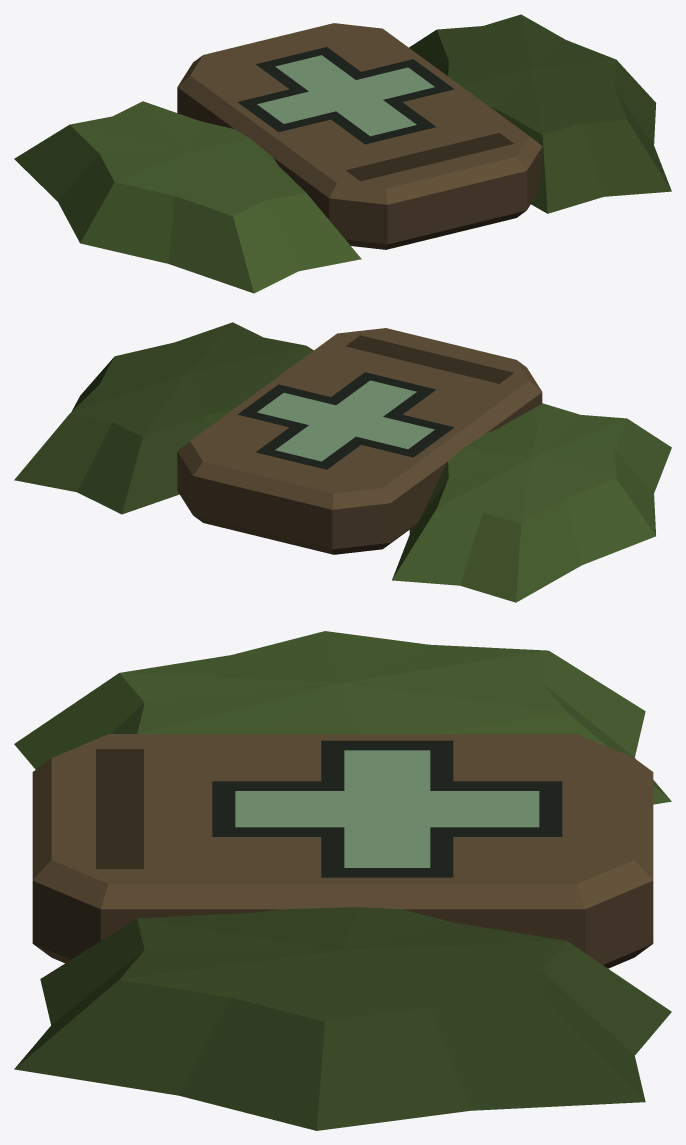
Rendered from item_medicine_herbal_a.obj.
3 views of the same model, one above another, from view 1: azimuth 30°, elevation 25°; view 2: azimuth 150°, elevation 25°; view 3: azimuth 270°, elevation 25° (orthographic). The views are drawn at different scales.
Bounding box in the file's own units: 0.896 × 0.091 × 0.5556.
